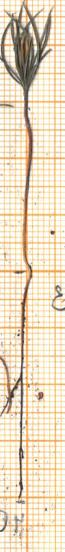flower: (0, 0, 64, 95)
root: (0, 271, 40, 511)
stem: (17, 96, 37, 273)
